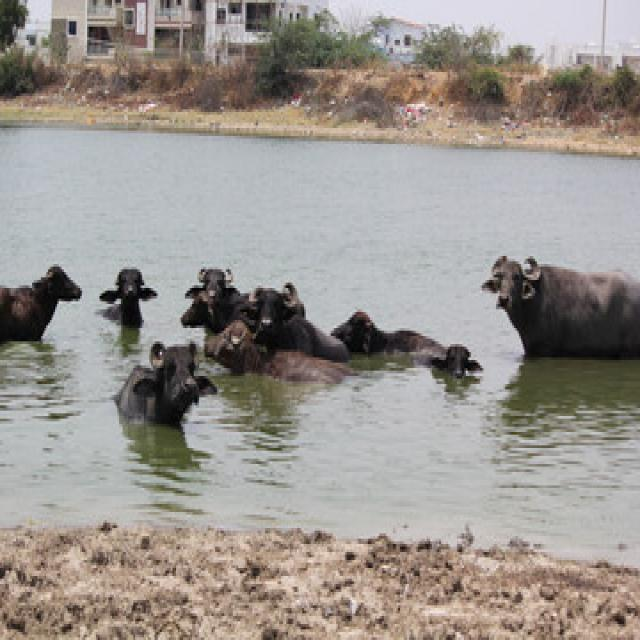Buffalo: (485, 253, 639, 361), (332, 309, 481, 378), (114, 338, 216, 423), (0, 264, 82, 348), (243, 284, 305, 347), (202, 319, 267, 374), (481, 254, 534, 310), (329, 310, 381, 353), (100, 268, 158, 304), (150, 339, 202, 377), (39, 266, 83, 303), (190, 266, 235, 298)
